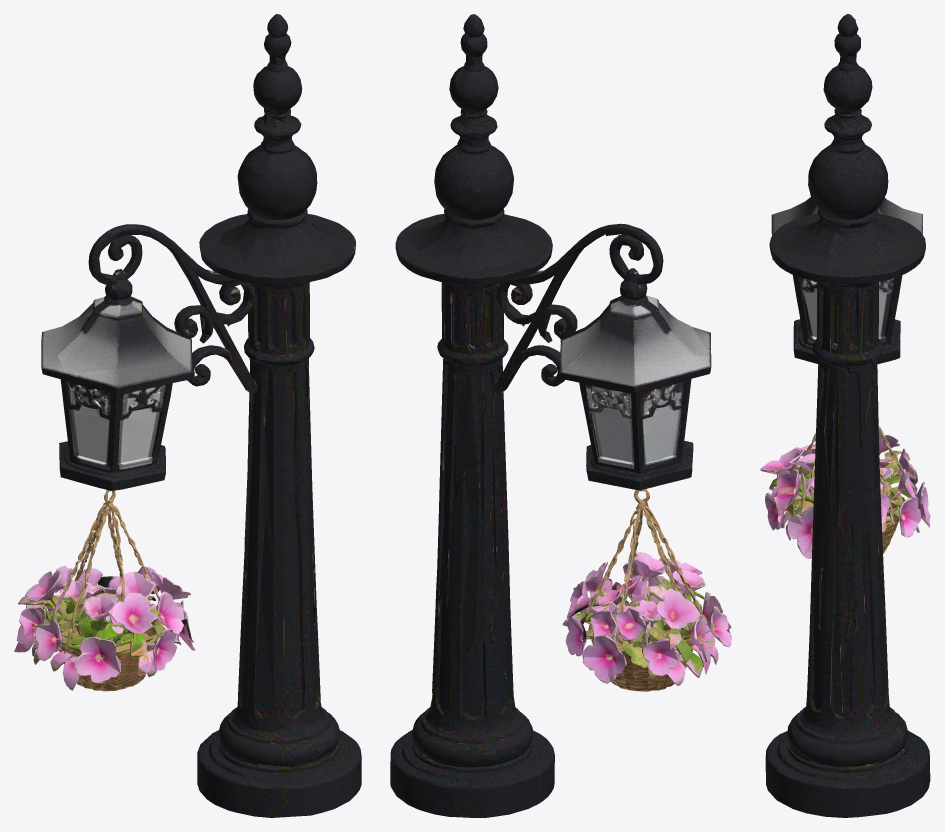
The model's file is lamp_post.glb.
3 views of the same model, side by side, from view 1: azimuth 30°, elevation 25°; view 2: azimuth 150°, elevation 25°; view 3: azimuth 270°, elevation 25° (orthographic).
Size of the model in its own units: 0.8292 by 1.9 by 0.3818.
Materials: 1 (1 with a texture image).
